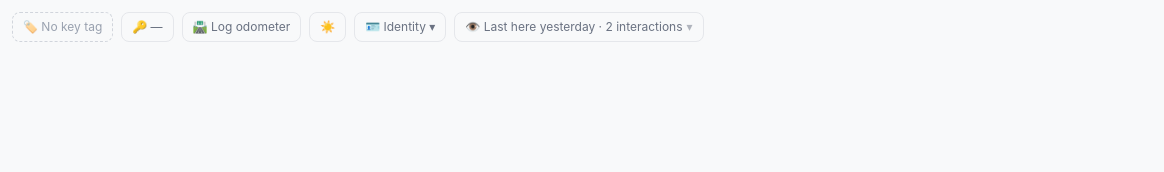
Test case: tapping the chip › says who was standing at the car
Click the button with test id "seen-chip": (579, 27) [454,12,704,42]
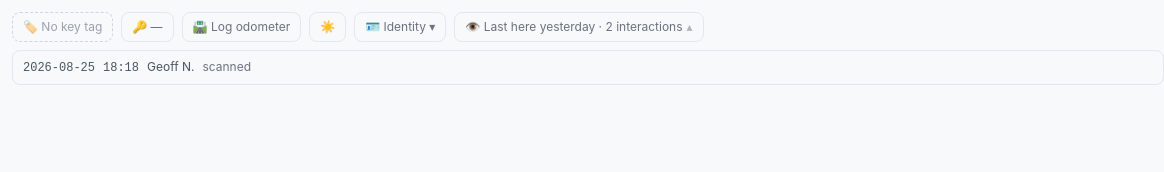
Now the element with test id "seen-history" shows "Geoff N.", box [147,59,194,74]
